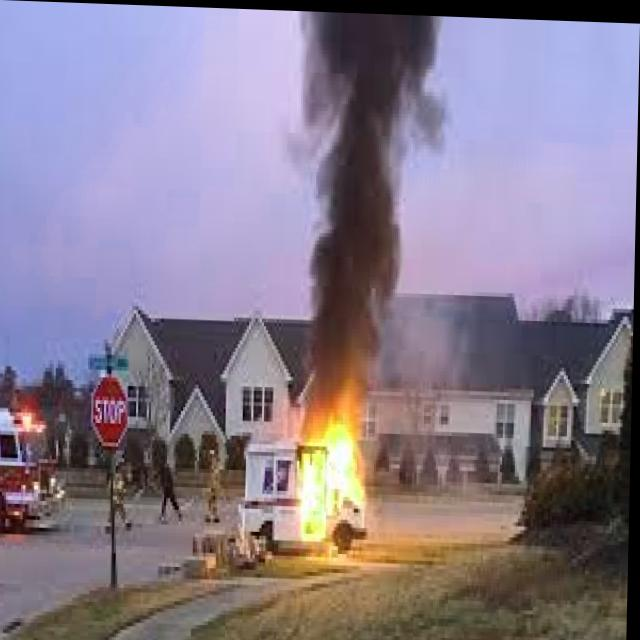fire: (298, 386, 371, 533)
